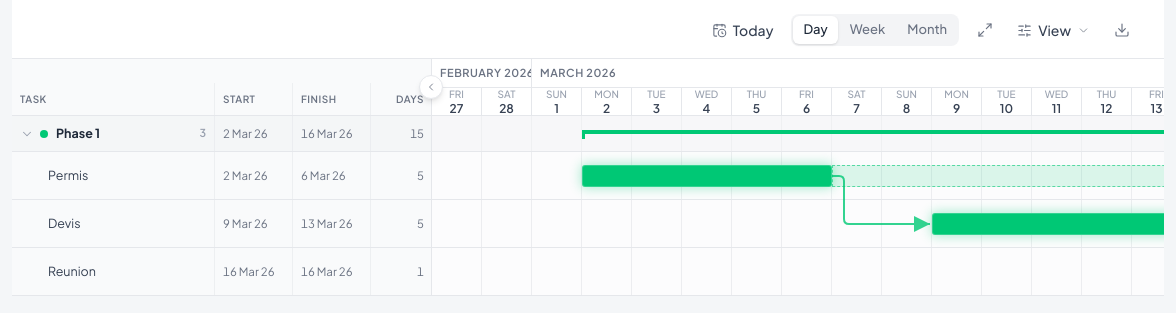
Scenario: GanttChart renaming › cancels on Escape, and saves nothing blank or unchanged
Double-click the text "Permis" at (68, 175), box x1=48 y1=167 x2=88 y2=183
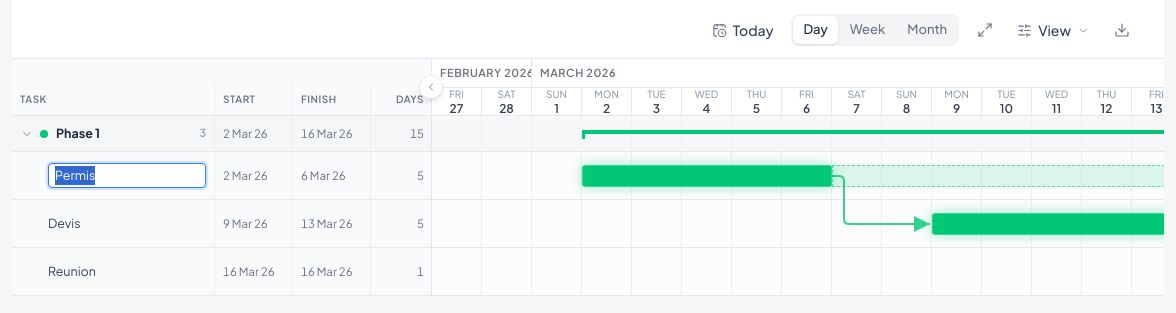
Type "xyz" into the field named "Task name" at (127, 176), box x1=48 y1=163 x2=206 y2=188
Then press Escape
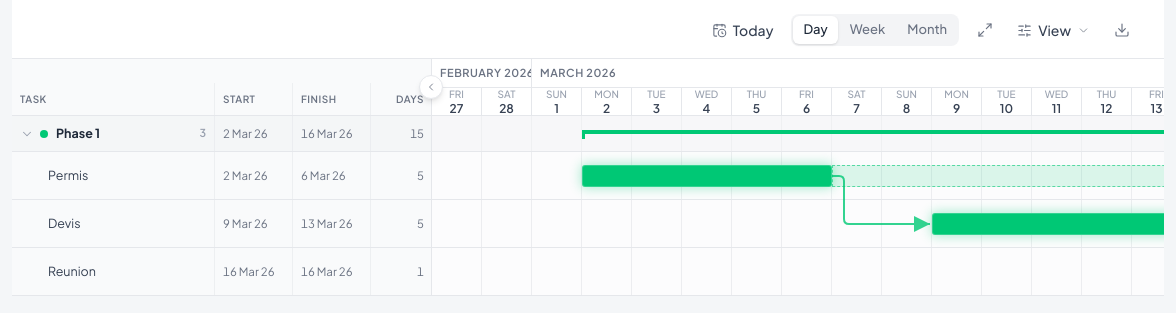
Double-click the text "Permis" at (68, 175), box x1=48 y1=167 x2=88 y2=183
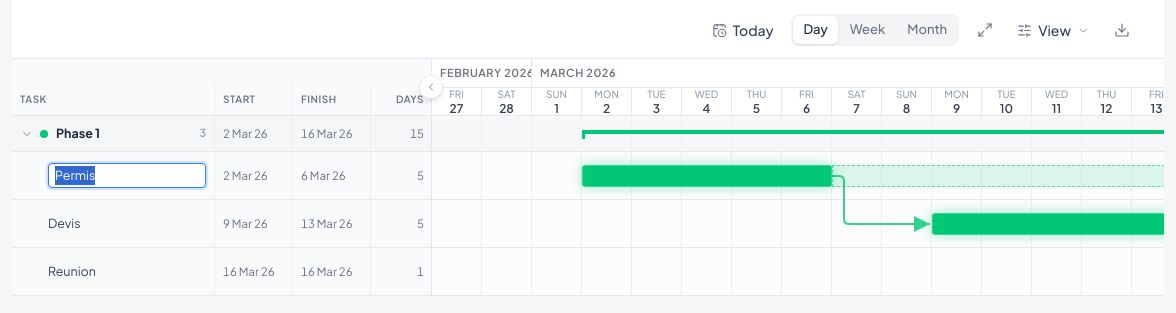
Clear the field named "Task name" at (127, 176), box x1=48 y1=163 x2=206 y2=188
Press Enter
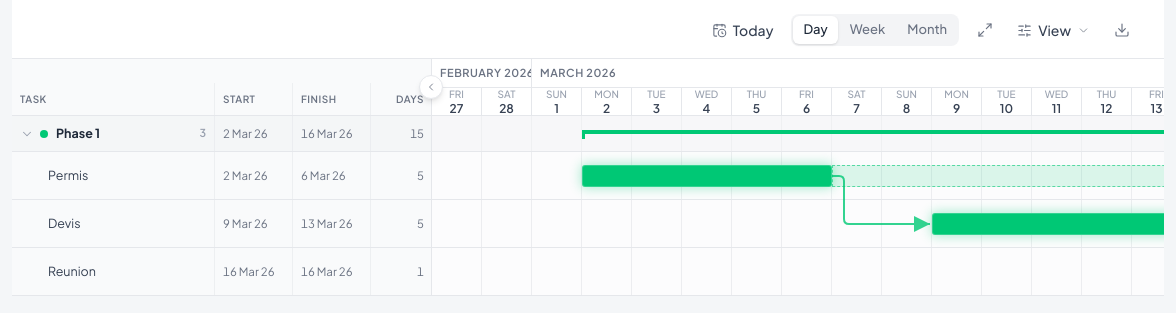
Double-click the text "Permis" at (68, 175), box x1=48 y1=167 x2=88 y2=183
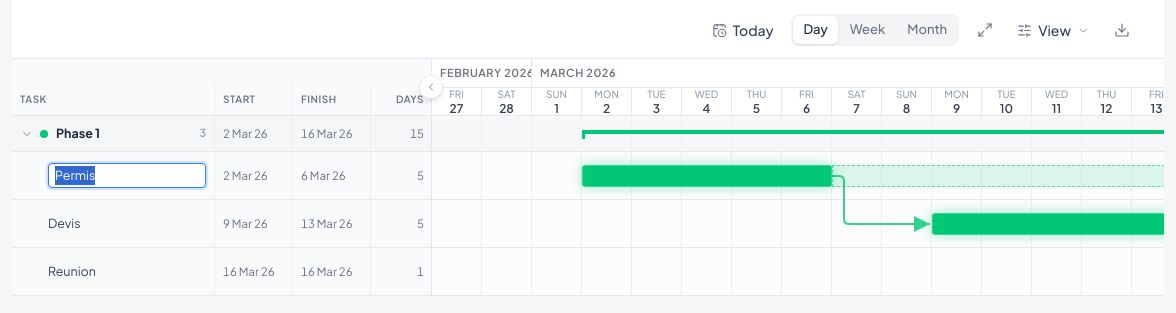
Press Enter
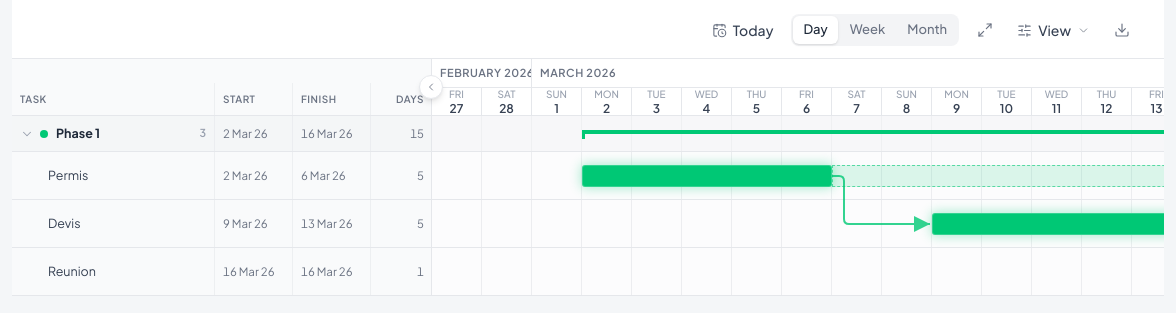
Expected: the text "Permis" is shown, x1=48 y1=167 x2=88 y2=183
